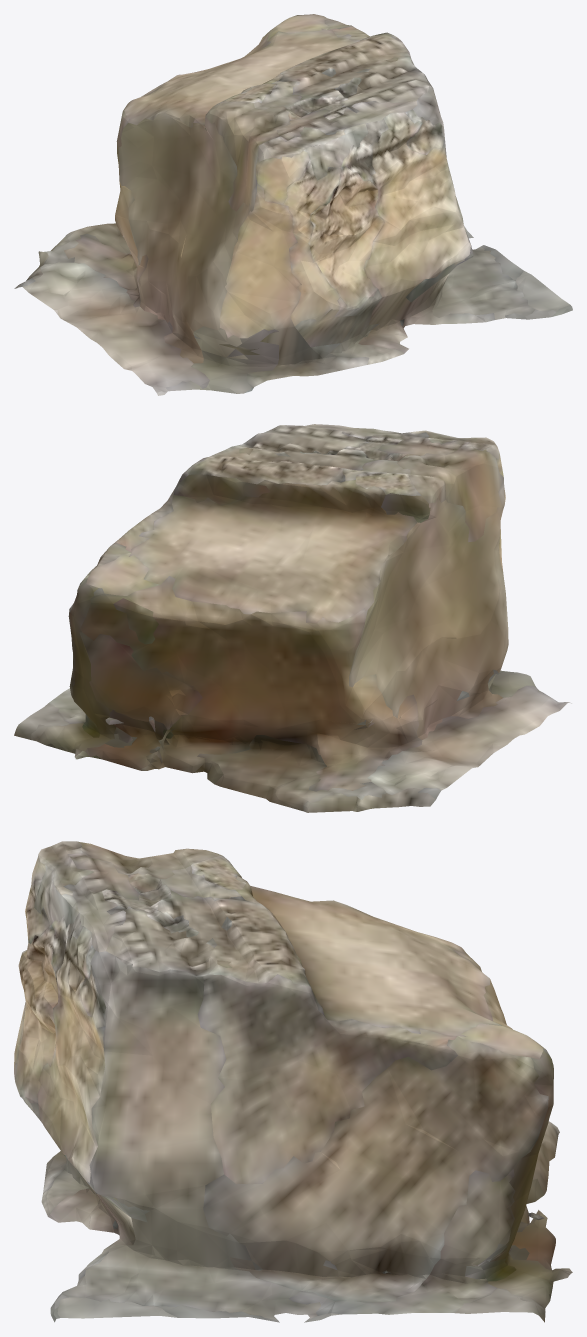
The model's file is zaghouan-relief.glb.
3 renders of one model, top to bottom at view 1: azimuth 30°, elevation 25°; view 2: azimuth 150°, elevation 25°; view 3: azimuth 270°, elevation 25°, orthographic. The views are drawn at different scales.
Parts seen in each view (by area): view 1: Object_2; view 2: Object_2; view 3: Object_2.
Boxes of the visible parts, left/top/right/bottom form: Object_2: left=14, top=14, right=572, bottom=395; Object_2: left=14, top=424, right=571, bottom=812; Object_2: left=14, top=841, right=572, bottom=1322.
Size of the model in its own units: 0.7558 by 0.4239 by 0.7262.
1 material, 1 textured.
